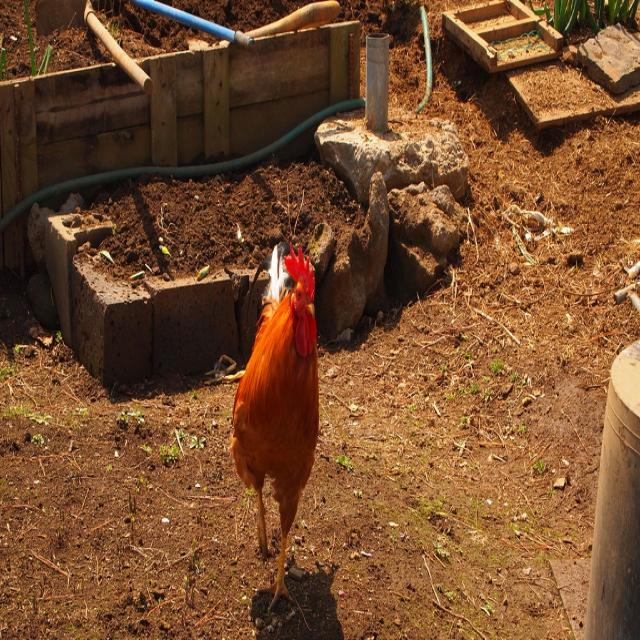Chicken: (232, 249, 322, 596)
